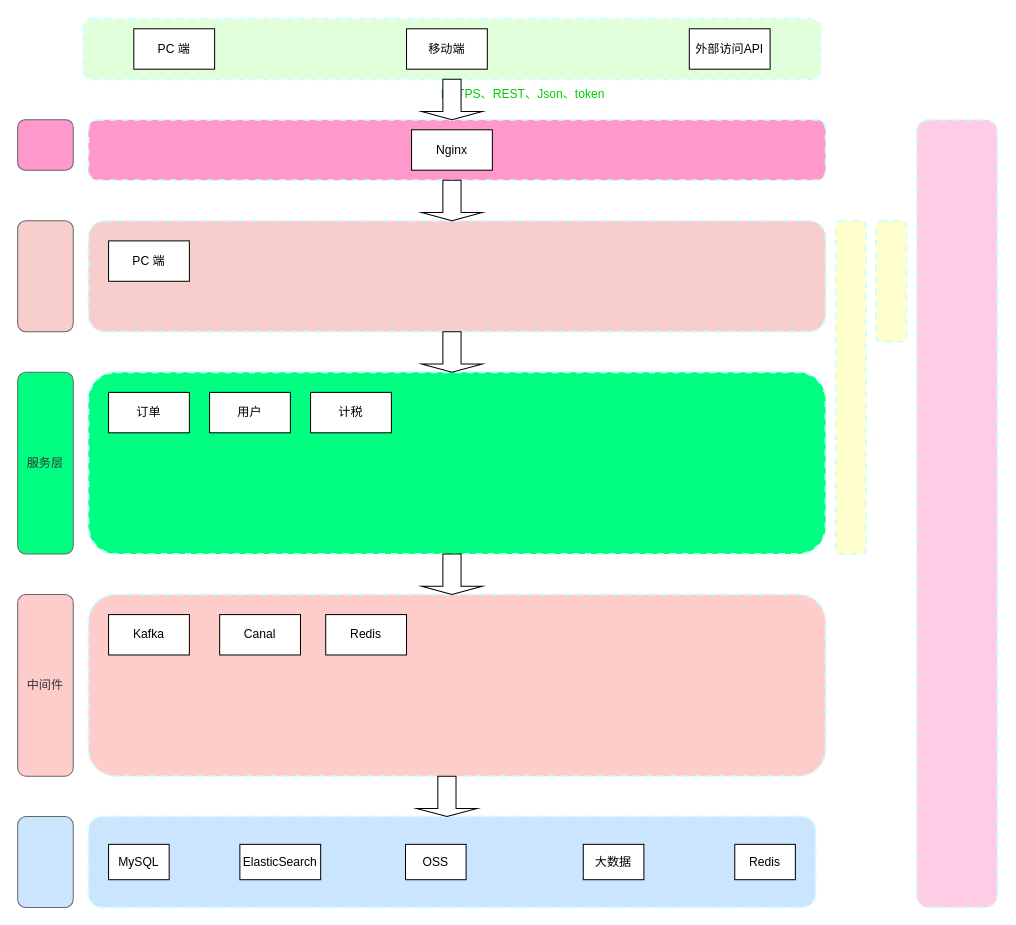
This 1016x925 diagram has some shape labels left out. The shapes that lost their labels are listed below. From the top down, each one's centre as x and y in pixels, then its label:
(x=45, y=144): 网关层
(x=45, y=276): API层
(x=891, y=280): 权限控制
(x=850, y=386): 日志记录
(x=956, y=513): 监控&报警
(x=45, y=861): 存储
